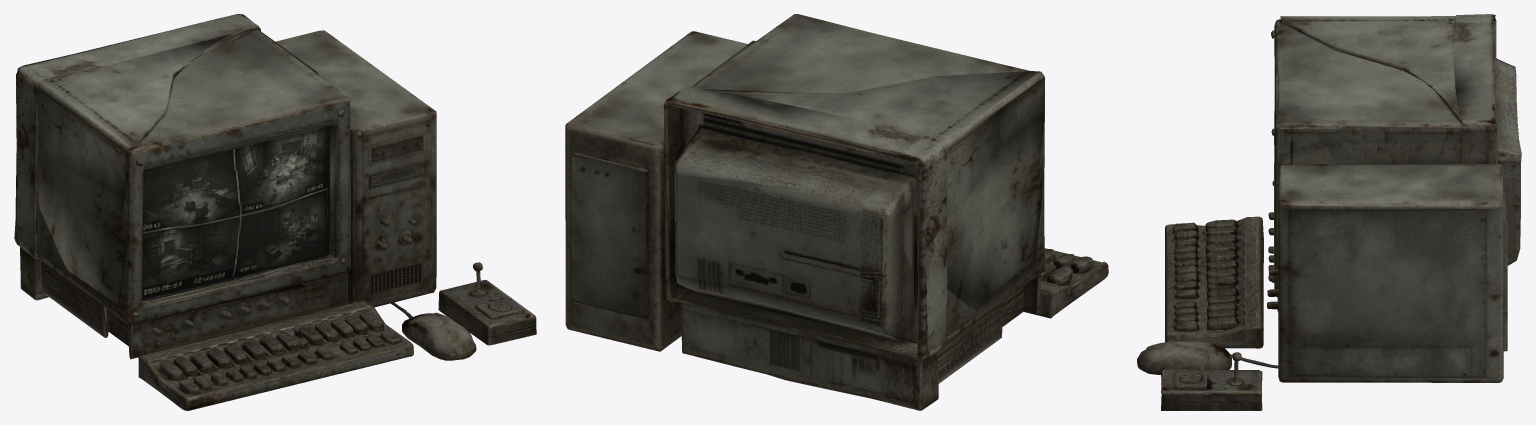
Rendered from old‑fashioned CRT monitor pc.fbx.
3 renders of one model, left to right at view 1: azimuth 30°, elevation 25°; view 2: azimuth 150°, elevation 25°; view 3: azimuth 270°, elevation 25°, orthographic. The views are drawn at different scales.
Parts seen in each view (by area): view 1: old‑fashioned CRT monitor pc; view 2: old‑fashioned CRT monitor pc; view 3: old‑fashioned CRT monitor pc.
Boxes of the visible parts, x1,y1,x2,y2 form: old‑fashioned CRT monitor pc: (14,14,536,410); old‑fashioned CRT monitor pc: (565,14,1108,410); old‑fashioned CRT monitor pc: (1137,14,1521,410).
Bounding box in the file's own units: 490 × 306 × 465.
1 material, 1 textured.
